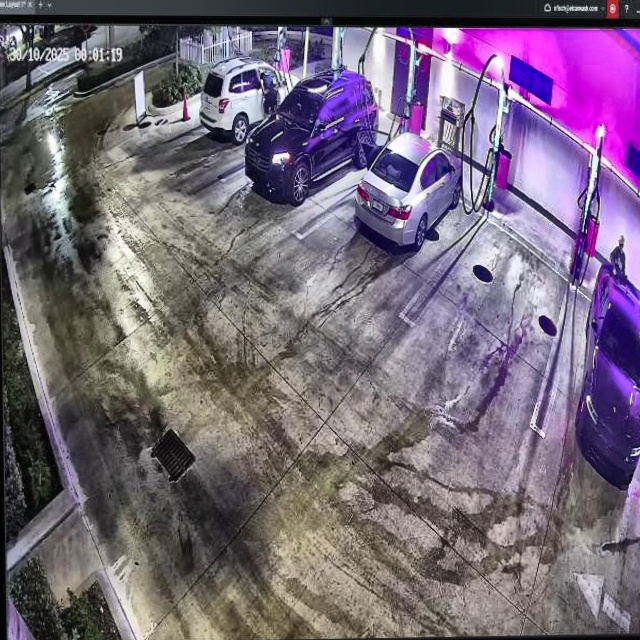Car: (245, 65, 377, 204), (356, 134, 462, 251), (200, 57, 300, 143)
